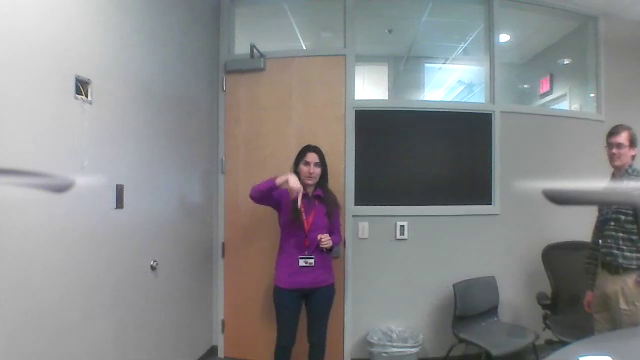down: (284, 171, 303, 211)
